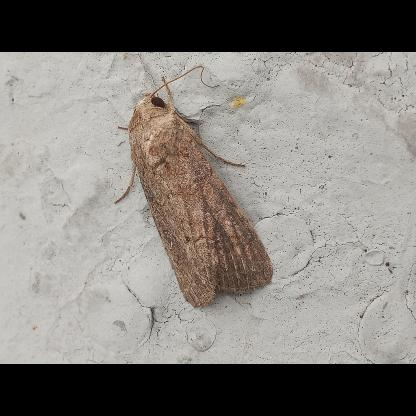Fall Armyworm Moth: (111, 64, 277, 312)
